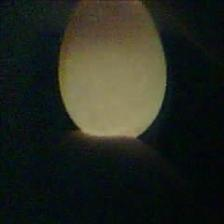infertile: (57, 0, 167, 144)
